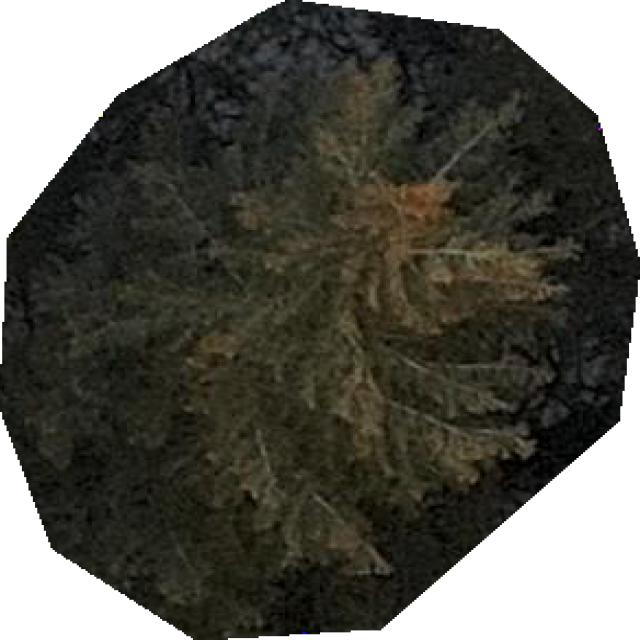spruce: (0, 0, 638, 638)
